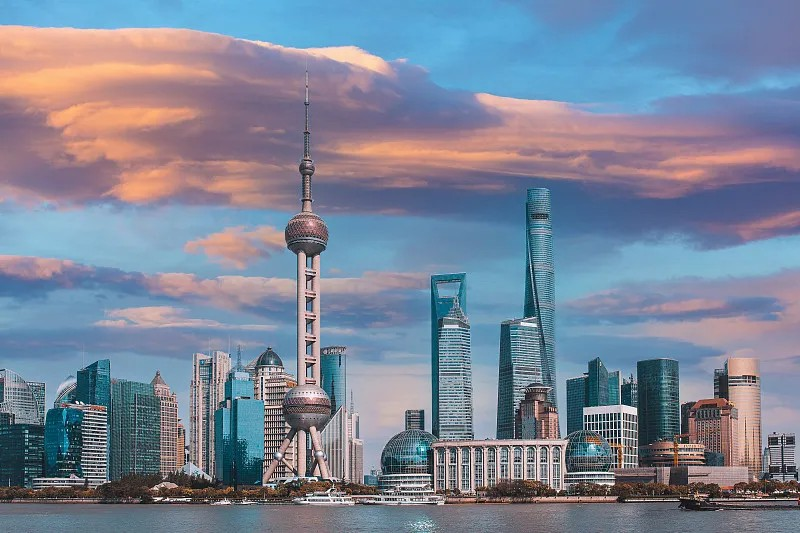Oriental: (262, 62, 331, 480)
